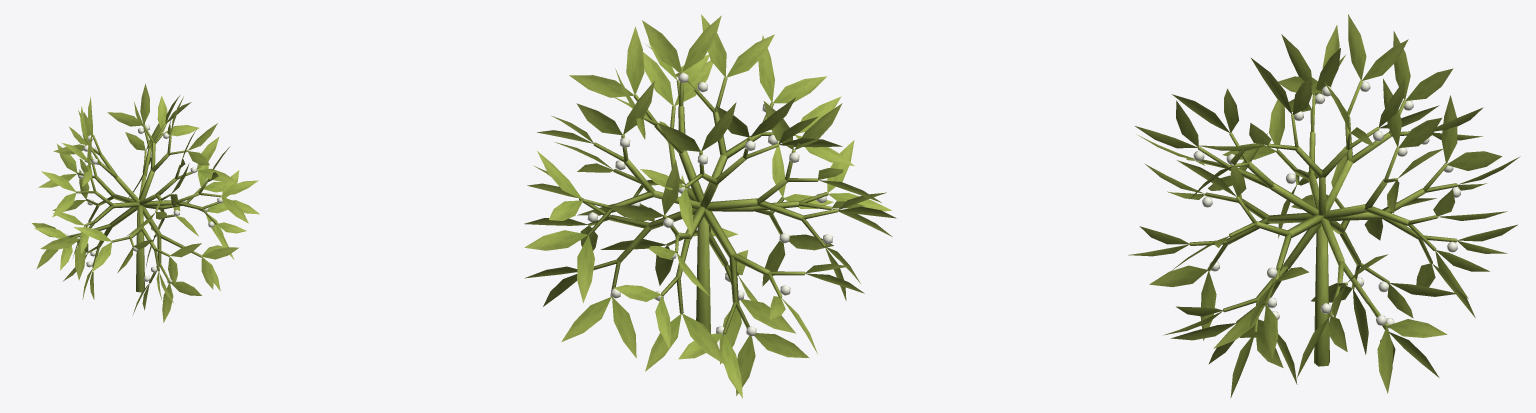
The model's file is mistletoefruit.glb.
3 renders of one model, left to right at view 1: azimuth 30°, elevation 25°; view 2: azimuth 150°, elevation 25°; view 3: azimuth 270°, elevation 25°, orthographic. The views are drawn at different scales.
Parts seen in each view (by area): view 1: mistletoefruit; view 2: mistletoefruit; view 3: mistletoefruit.
Part boxes in pixels (left/top/right/bottom): mistletoefruit: left=32, top=83, right=259, bottom=322; mistletoefruit: left=524, top=14, right=896, bottom=398; mistletoefruit: left=1128, top=14, right=1520, bottom=398.
Bounding box in the file's own units: 0.765 × 0.4124 × 0.414.
Materials: 1 (1 with a texture image).
